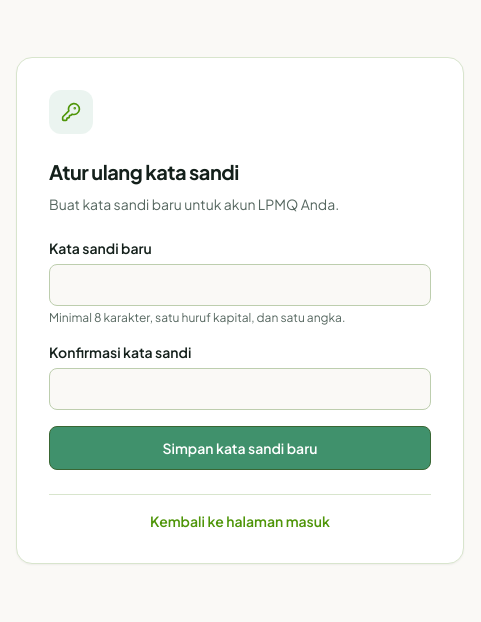
it: ResetPasswordPage › shows a validation error for a password that does not meet backend rules
In the password field labelled "Kata sandi baru": (240,284) [49, 264, 431, 306], type "password"
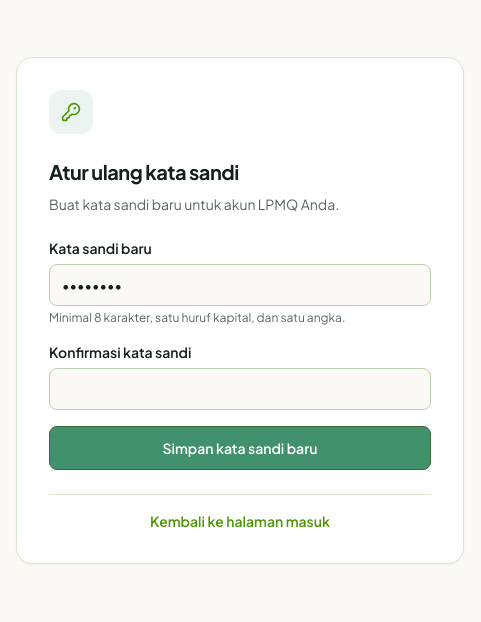
In the password field labelled "Konfirmasi kata sandi": (240,388) [49, 368, 431, 410], type "password"
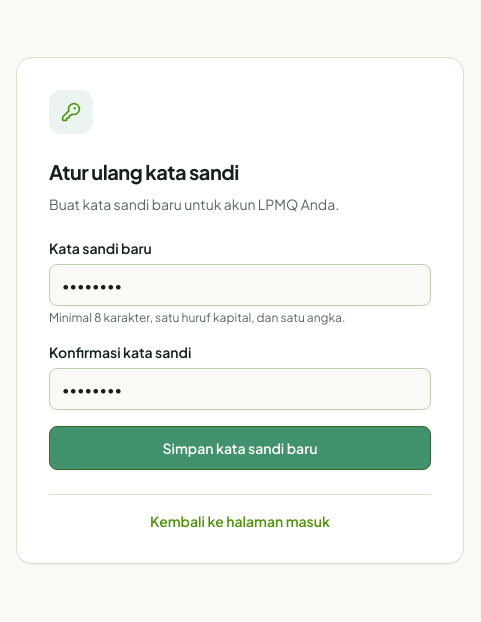
Click the button "Simpan kata sandi baru": (240,448) [49, 426, 431, 470]
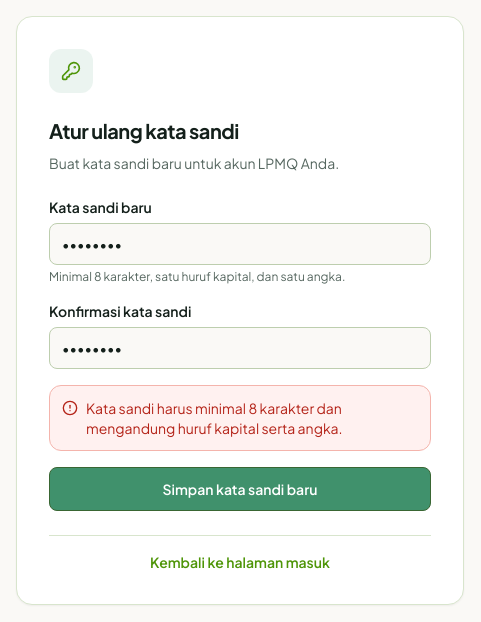
expect the text "minimal 8 karakter dan mengandung huruf kapital serta angka" is shown: met, box [86, 398, 343, 436]
